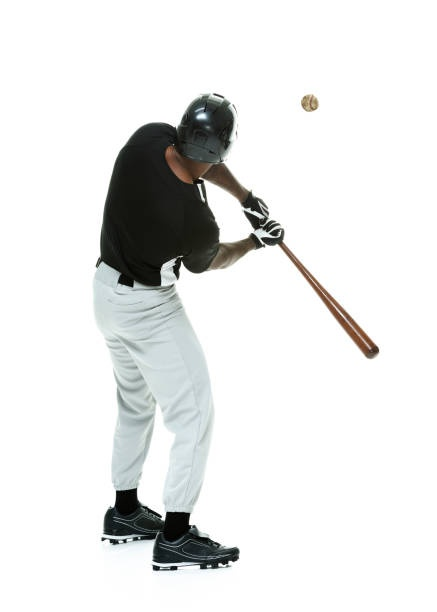bita: (260, 212, 378, 359)
